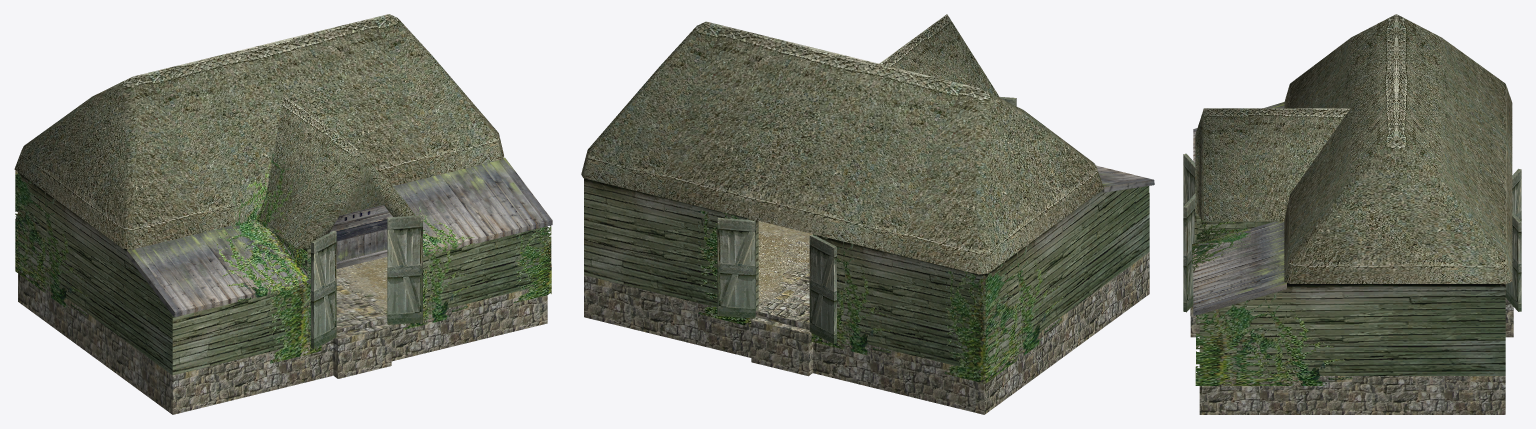
Rendered from building_stockpile.glb.
3 renders of one model, left to right at view 1: azimuth 30°, elevation 25°; view 2: azimuth 150°, elevation 25°; view 3: azimuth 270°, elevation 25°, orthographic. The views are drawn at different scales.
Parts seen in each view (by area): view 1: building_stockpile; view 2: building_stockpile; view 3: building_stockpile.
Boxes of the visible parts, left/top/right/bottom form: building_stockpile: left=14, top=14, right=552, bottom=414; building_stockpile: left=581, top=14, right=1154, bottom=414; building_stockpile: left=1183, top=14, right=1521, bottom=414.
Bounding box in the file's own units: 14.59 × 9.18 × 11.33.
9 materials, 6 textured.
